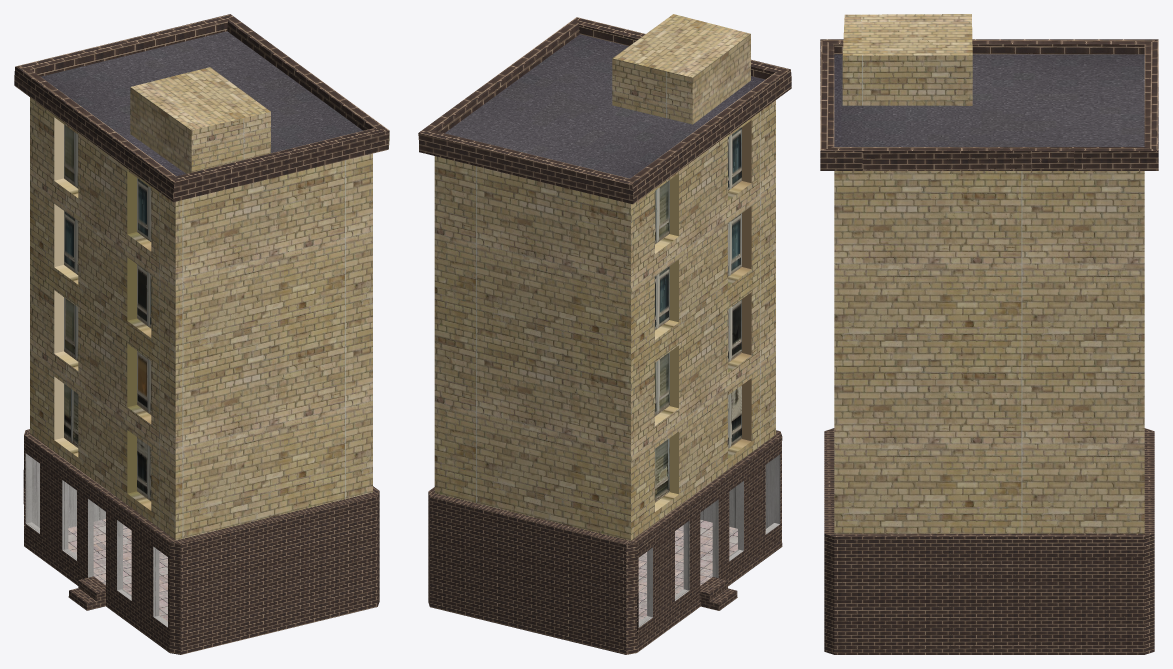
The model's file is zabegalovka.fbx.
3 renders of one model, left to right at view 1: azimuth 30°, elevation 25°; view 2: azimuth 150°, elevation 25°; view 3: azimuth 270°, elevation 25°, orthographic. The views are drawn at different scales.
Visible parts, largest first — view 1: Cube; view 2: Cube; view 3: Cube.
Part boxes in pixels (x1=…): Cube: x1=14, y1=14, x2=389, y2=654; Cube: x1=418, y1=14, x2=791, y2=654; Cube: x1=820, y1=14, x2=1158, y2=654.
Bounding box in the file's own units: 2811 × 5931 × 3338.
